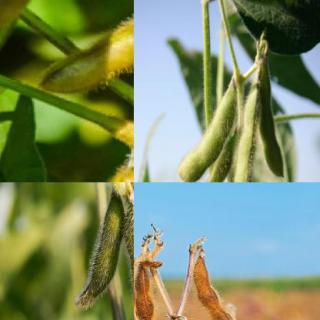soya: (39, 5, 133, 91), (178, 86, 237, 182), (74, 198, 124, 308), (192, 256, 240, 319), (258, 67, 284, 178), (232, 89, 260, 182), (193, 153, 232, 182), (134, 266, 153, 319)
